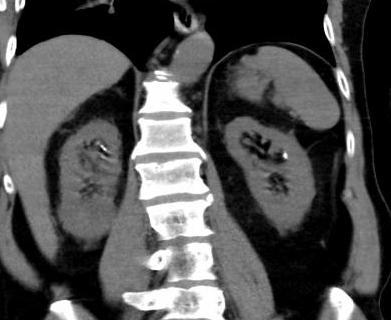Tas_Var: (283, 149, 290, 161), (102, 146, 108, 152), (100, 143, 104, 149)
